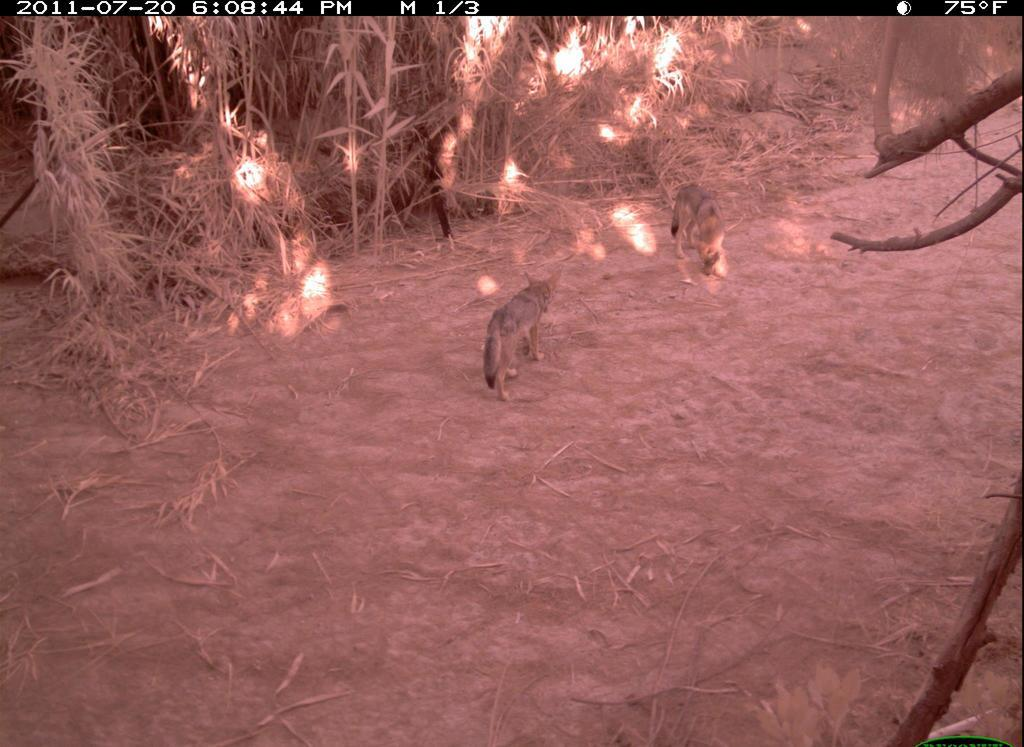coyote: (461, 267, 564, 405), (662, 175, 753, 282)
